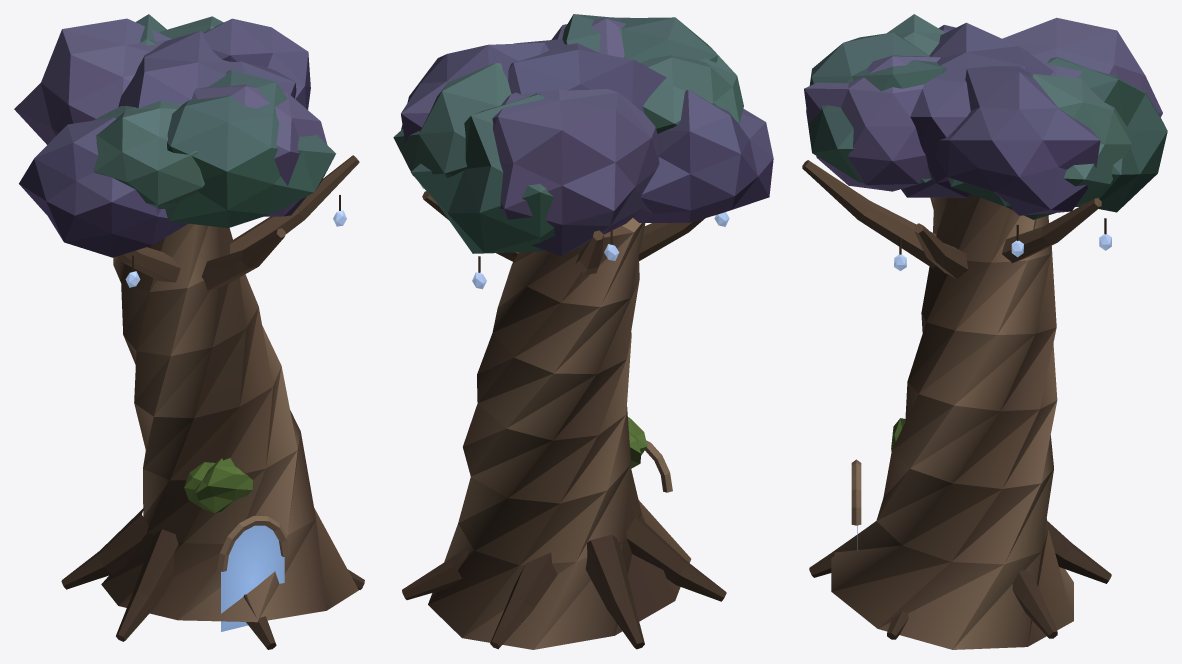
File: dreamb_dream_hall_blue.glb
The picture shows the model from 3 angles, left to right: view 1: azimuth 30°, elevation 25°; view 2: azimuth 150°, elevation 25°; view 3: azimuth 270°, elevation 25°; orthographic projection. The views are drawn at different scales.
Parts seen in each view (by area): view 1: dreamb_dream_hall_blue_solid, dreamb_dream_hall_blue_leaf, dreamb_dream_hall_blue_glow; view 2: dreamb_dream_hall_blue_solid, dreamb_dream_hall_blue_leaf, dreamb_dream_hall_blue_glow; view 3: dreamb_dream_hall_blue_solid, dreamb_dream_hall_blue_leaf, dreamb_dream_hall_blue_glow.
Boxes of the visible parts, x1=… form: dreamb_dream_hall_blue_solid: x1=61, y1=155, x2=364, y2=649; dreamb_dream_hall_blue_leaf: x1=14, y1=14, x2=335, y2=513; dreamb_dream_hall_blue_glow: x1=125, y1=210, x2=346, y2=631; dreamb_dream_hall_blue_solid: x1=402, y1=191, x2=726, y2=649; dreamb_dream_hall_blue_leaf: x1=393, y1=14, x2=773, y2=468; dreamb_dream_hall_blue_glow: x1=420, y1=184, x2=729, y2=289; dreamb_dream_hall_blue_solid: x1=802, y1=160, x2=1111, y2=649; dreamb_dream_hall_blue_leaf: x1=804, y1=14, x2=1167, y2=451; dreamb_dream_hall_blue_glow: x1=857, y1=234, x2=1111, y2=550.
Size of the model in its own units: 2.37 by 4.14 by 2.49.
